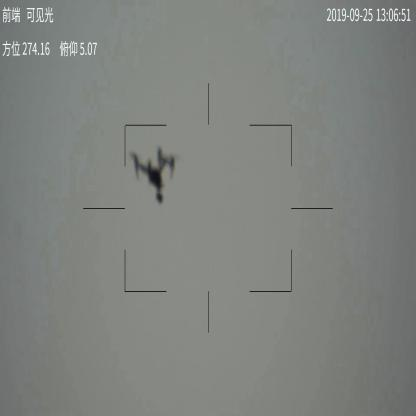uav: (127, 144, 178, 204)
